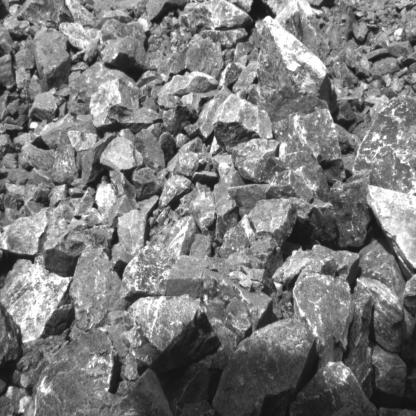stone: (211, 317, 317, 416), (23, 327, 120, 416), (294, 256, 355, 370), (0, 254, 74, 343), (352, 95, 416, 197), (257, 16, 327, 100), (69, 246, 131, 340), (126, 293, 207, 355), (288, 361, 378, 416), (365, 185, 416, 280), (283, 245, 359, 307), (272, 107, 341, 170), (67, 60, 141, 115), (42, 218, 110, 277), (353, 277, 404, 352), (213, 92, 273, 155), (0, 205, 74, 256), (258, 151, 330, 202), (329, 169, 373, 248), (343, 294, 374, 401), (110, 369, 180, 416), (356, 237, 406, 302), (120, 243, 179, 298), (166, 34, 225, 83), (90, 78, 139, 133), (201, 270, 248, 324), (32, 25, 71, 90), (179, 0, 253, 34), (248, 198, 297, 247), (185, 86, 230, 139), (371, 346, 410, 401), (232, 138, 279, 183), (96, 181, 140, 226), (216, 165, 240, 243), (216, 215, 257, 260), (17, 0, 75, 30), (98, 35, 145, 70), (156, 216, 196, 257), (265, 170, 314, 203), (117, 209, 150, 256), (100, 137, 144, 172), (134, 129, 165, 172), (157, 173, 191, 211), (30, 89, 69, 121), (52, 132, 78, 179), (188, 191, 217, 231), (133, 168, 163, 198), (21, 141, 55, 166)
